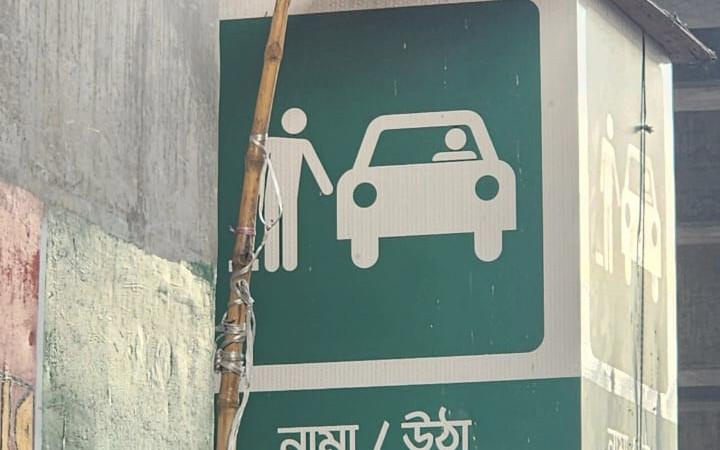Metro Dorp Up Pick up: (217, 0, 677, 450)
